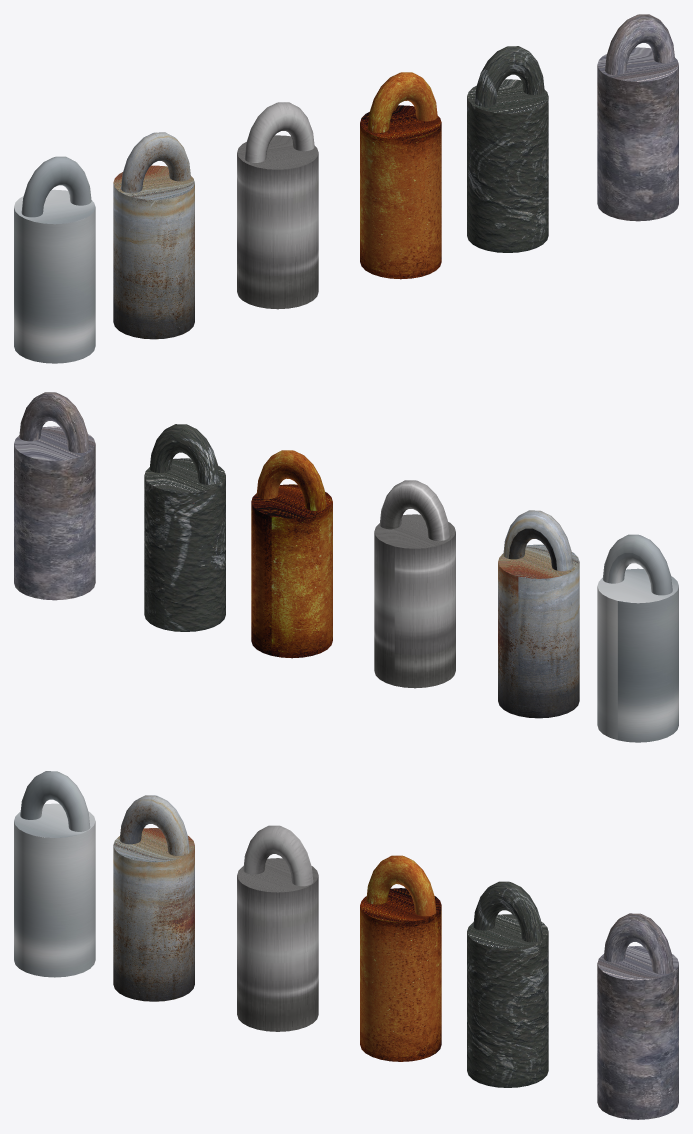
Rendered from Metals.FBX.
3 renders of one model, top to bottom at view 1: azimuth 30°, elevation 25°; view 2: azimuth 150°, elevation 25°; view 3: azimuth 330°, elevation 25°, orthographic.
Parts seen in each view (by area): view 1: Platinum, Tin, Lead, Copper, Silver, Antimony; view 2: Silver, Copper, Tin, Platinum, Lead, Antimony; view 3: Tin, Silver, Antimony, Copper, Platinum, Lead.
Part boxes in pixels (x1,y1,x2,y2): Platinum: (14,156,95,363); Tin: (113,132,194,339); Lead: (597,14,678,221); Copper: (360,72,441,279); Silver: (237,102,318,309); Antimony: (467,46,548,252); Silver: (374,480,455,688); Copper: (251,450,332,658); Tin: (498,510,579,718); Platinum: (597,534,678,742); Lead: (14,392,95,600); Antimony: (144,424,225,631); Tin: (113,795,194,1001); Silver: (237,825,318,1031); Antimony: (467,881,548,1087); Copper: (360,855,441,1061); Platinum: (14,771,95,977); Lead: (597,913,678,1119).
Bounding box in the file's own units: 111 × 30.7 × 12.
